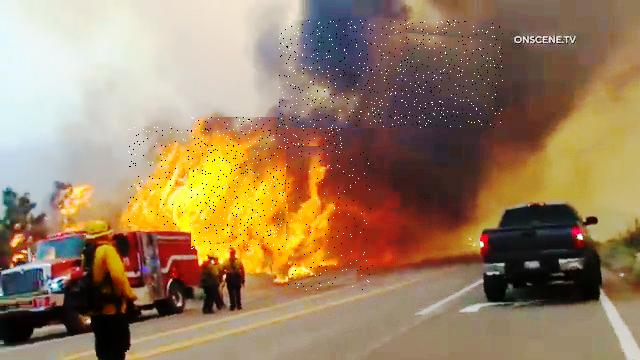fire: (192, 118, 344, 251), (129, 126, 288, 226), (289, 148, 374, 290)
smoke: (280, 20, 504, 128)
